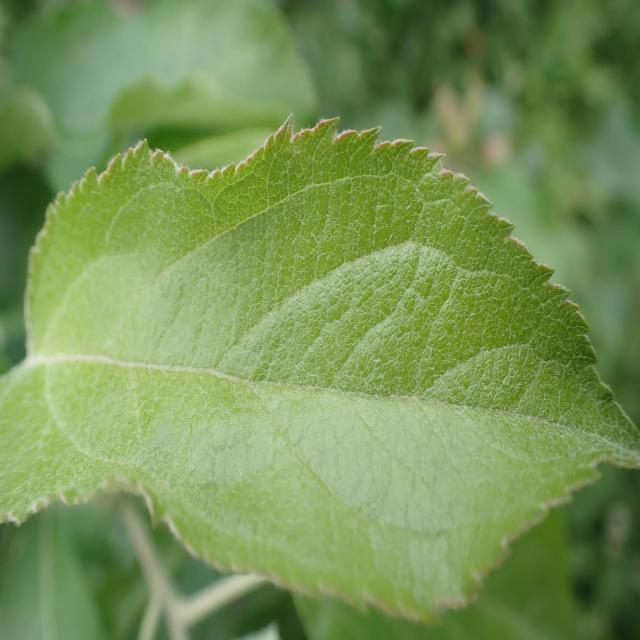healthy: (1, 113, 640, 627)
